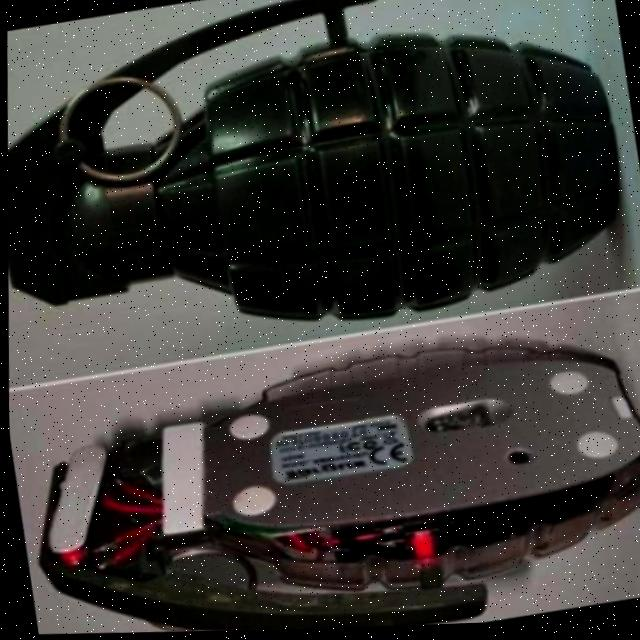grenade: (0, 0, 640, 392)
